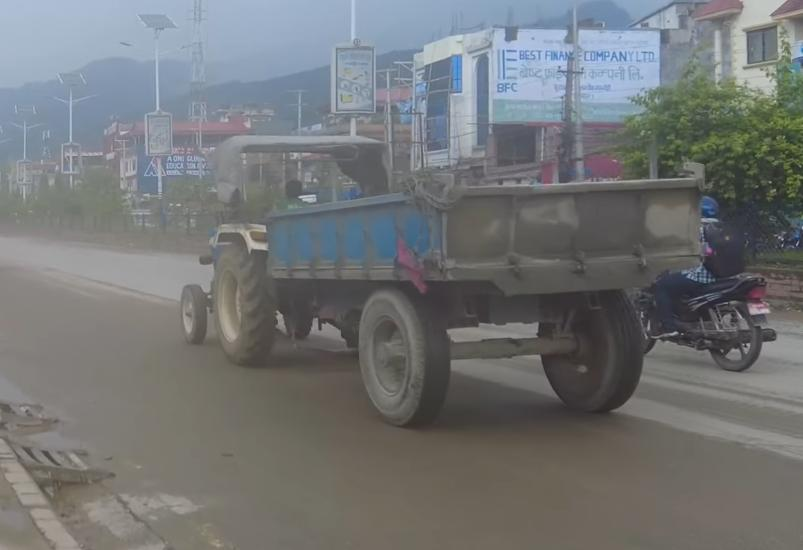bike: (632, 251, 782, 374)
tractor: (177, 106, 702, 431)
